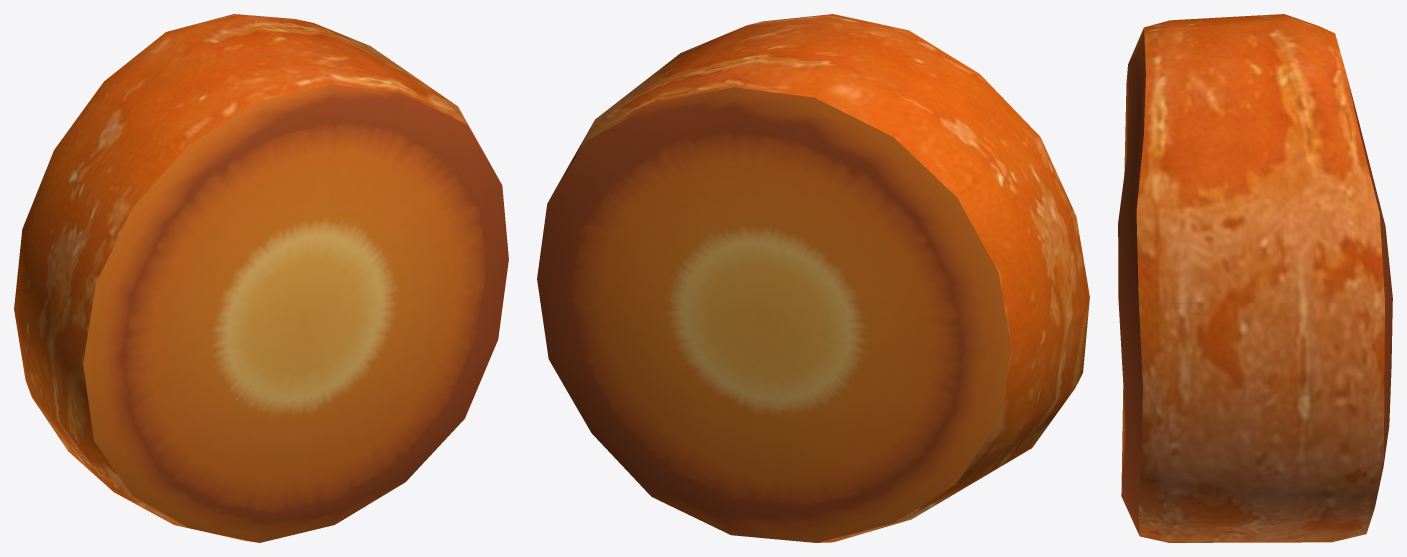
Rendered from carrot_shell_pellet.glb.
3 renders of one model, left to right at view 1: azimuth 30°, elevation 25°; view 2: azimuth 150°, elevation 25°; view 3: azimuth 270°, elevation 25°, orthographic. The views are drawn at different scales.
Visible parts, largest first — view 1: carrot_shell_pellet; view 2: carrot_shell_pellet; view 3: carrot_shell_pellet.
Part boxes in pixels (x1,y1,x2,y2): carrot_shell_pellet: [14, 14, 508, 542]; carrot_shell_pellet: [537, 14, 1089, 542]; carrot_shell_pellet: [1118, 14, 1392, 542].
Size of the model in its own units: 0.0453 by 0.0455 by 0.0239.
Materials: 1 (1 with a texture image).
